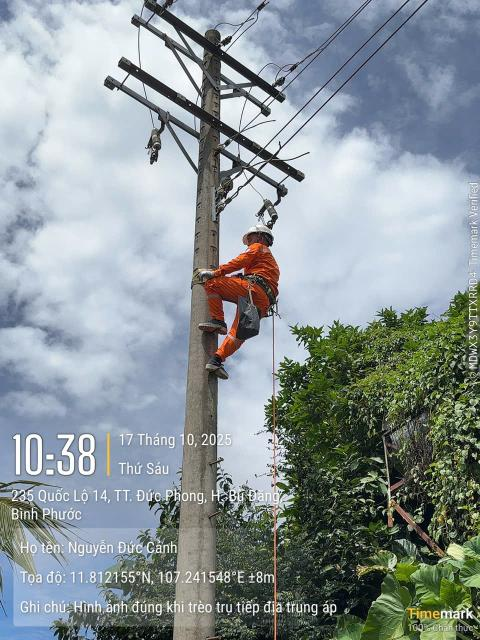gloves: (193, 265, 229, 284)
harness: (238, 265, 295, 320)
helmet: (237, 217, 283, 247)
shoes: (187, 351, 252, 385), (192, 313, 235, 337)
